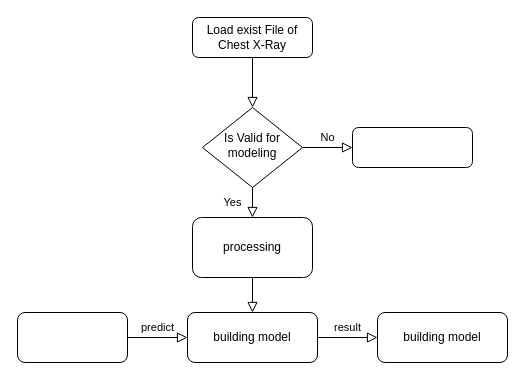
Some shapes in this 525 by 380 pixel diagram are drawn without their labels. Each missing label, with the centre of its shape:
"get out" belongs at pixel 412 147.
"new Chest X-Ray" belongs at pixel 72 337.
